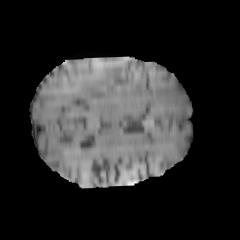glioma: (67, 56, 187, 110)
